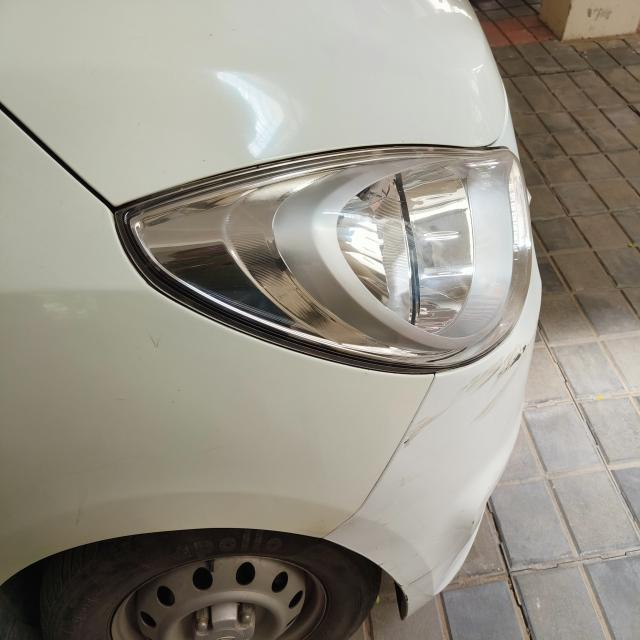scratch: (401, 336, 531, 465)
